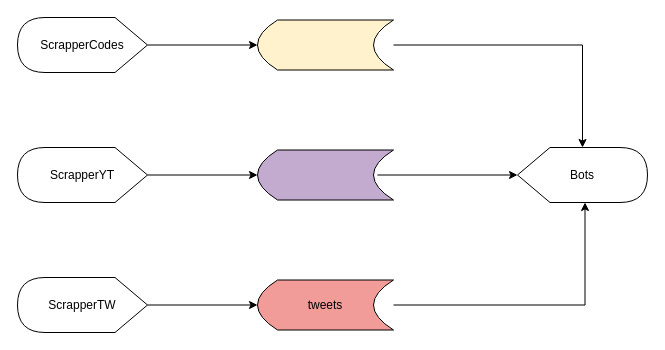
Image size: 665x350. Some labels were removed from this diagram. The shapes that lost their labels are listed below. From the top down, each one's centre as x and y in pixels, then its label:
(325,44): codes
(325,174): videos
